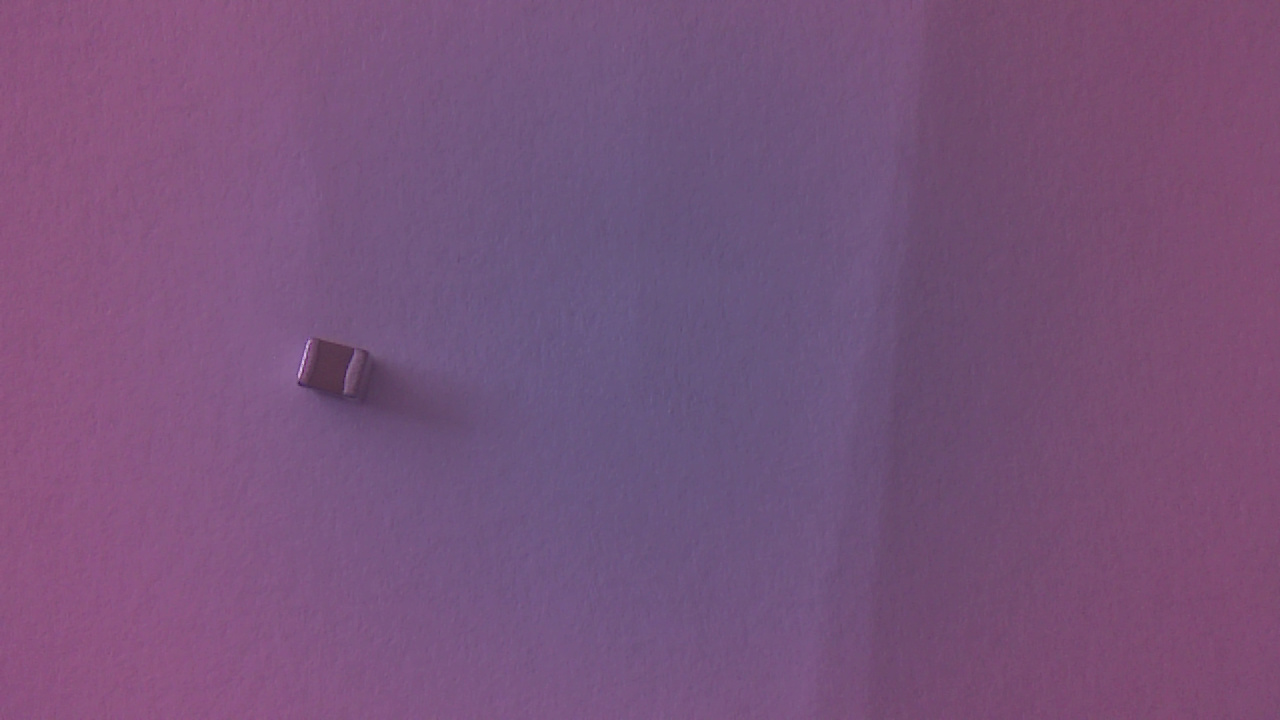Condensator: (299, 336, 378, 412)
